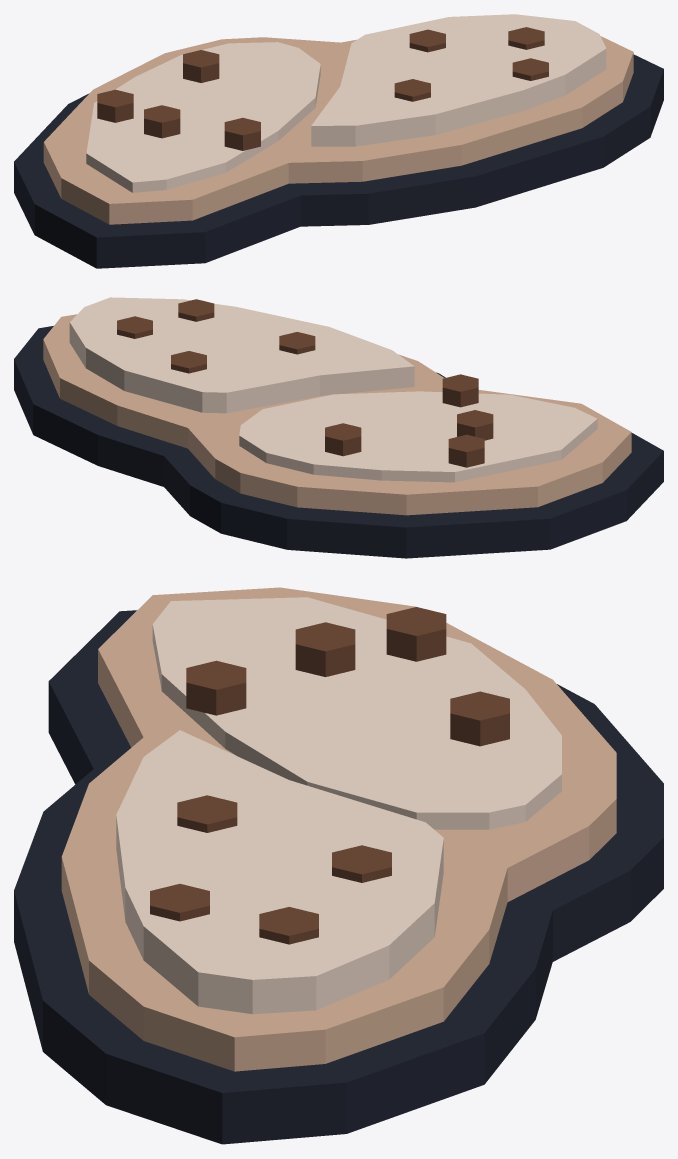
File: cookies.fbx
The picture shows the model from 3 angles, top to bottom: view 1: azimuth 30°, elevation 25°; view 2: azimuth 150°, elevation 25°; view 3: azimuth 270°, elevation 25°; orthographic projection. The views are drawn at different scales.
Visible parts, largest first — view 1: cookies; view 2: cookies; view 3: cookies.
Part boxes in pixels (box(x1,y1,x2,y2)): cookies: box(14, 14, 663, 268); cookies: box(14, 297, 663, 558); cookies: box(14, 587, 663, 1144).
Size of the model in its own units: 1.23 by 0.15 by 0.687.
1 material, 1 textured.
